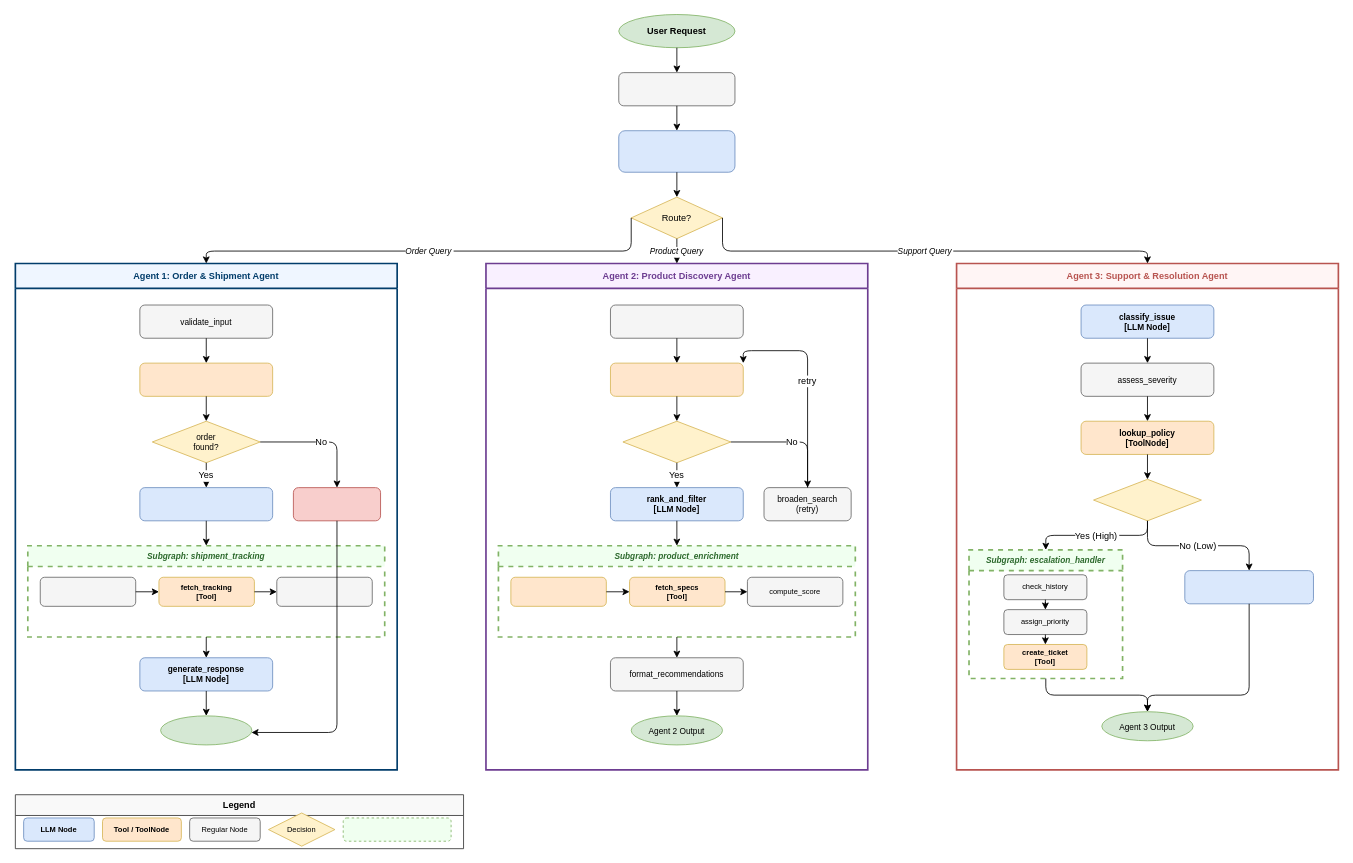
The diagram is 1353 pixels wide and 863 high, and some of its shapes have lost their labels. The shapes that lost their labels are listed below. From the top down, each one's centre as x and y in pixels, then its label:
At [676,89]: "FastAPI Endpoint".
At [676,151]: "Intent Router [LLM Node]".
At [676,321]: "extract_preferences".
At [206,379]: "fetch_order_data [ToolNode]".
At [676,379]: "search_products [ToolNode]".
At [676,441]: "results found?".
At [206,504]: "analyze_order_status [LLM Node]".
At [337,504]: "error_response".
At [1147,499]: "severity high?".
At [87,591]: "get_carrier_info".
At [324,591]: "parse_eta".
At [558,591]: "fetch_reviews [Tool]".
At [1248,587]: "draft_resolution [LLM Node]".
At [206,730]: "Agent 1 Output".
At [396,829]: "Subgraph (nested)".
